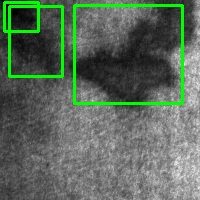patches: (74, 5, 182, 103), (9, 6, 62, 76), (4, 2, 38, 31)
